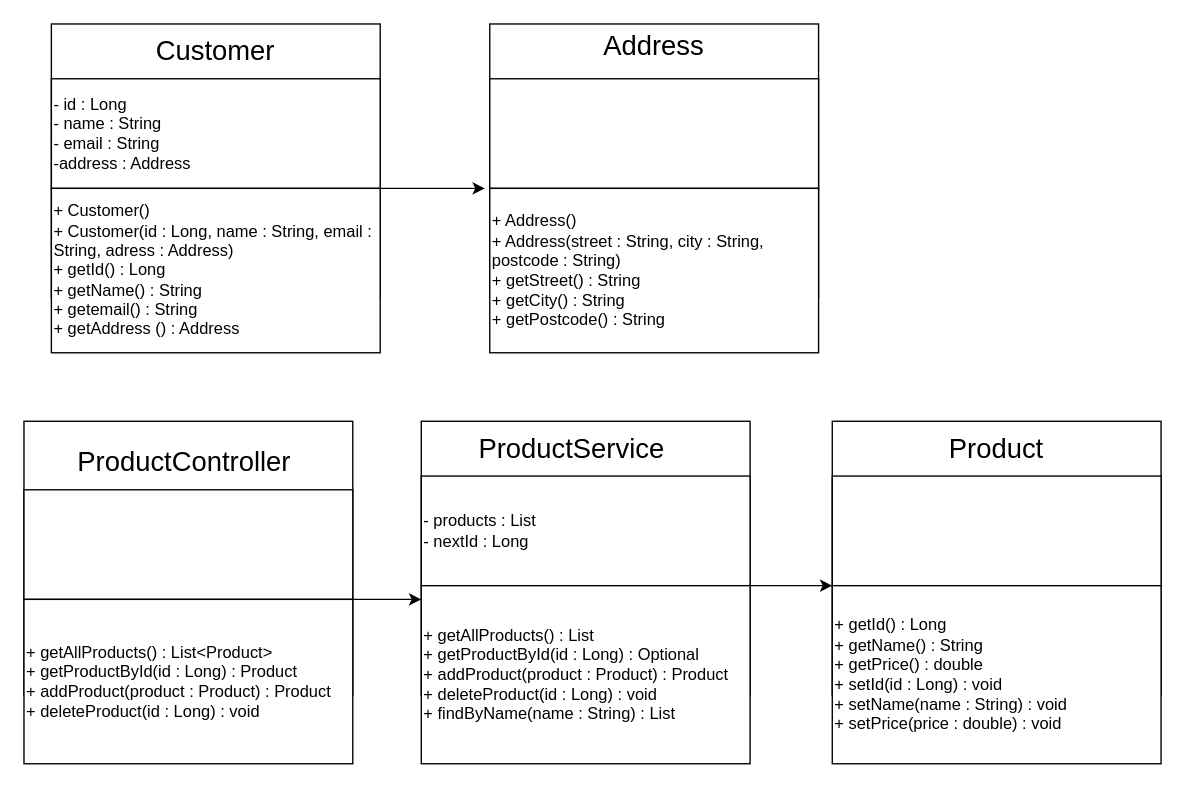
The diagram is 1185 pixels wide and 788 high, and some of its shapes have lost their labels. The box of each missing label's shape, as (x1, y1, x2, y2) in pixels:
- id : Long - name : String - price : double: (831, 475, 1161, 586)
- productService : ProductService: (23, 488, 353, 599)
- street : String - city : String - postcode : String: (488, 77, 819, 188)
